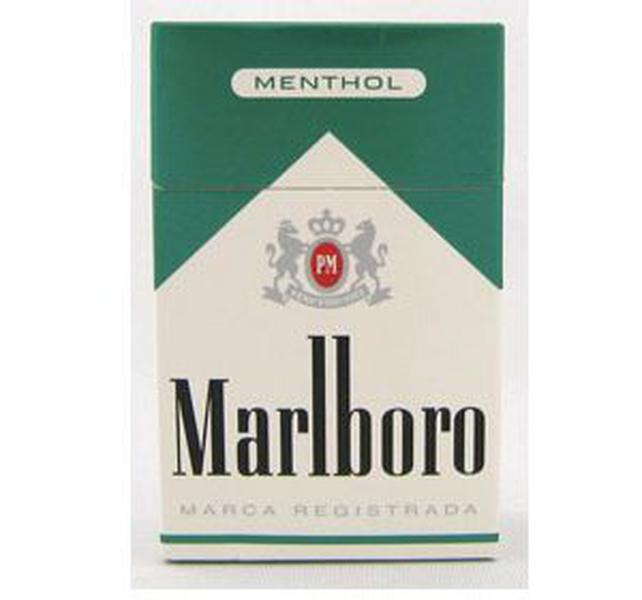marlboro_mentol: (151, 22, 498, 564)
